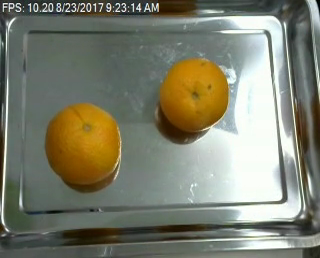Orange: (43, 102, 121, 185), (158, 56, 229, 132)
